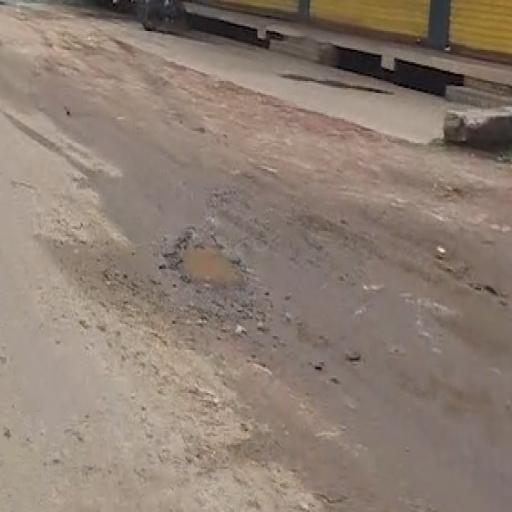pothole: (113, 168, 319, 345)
